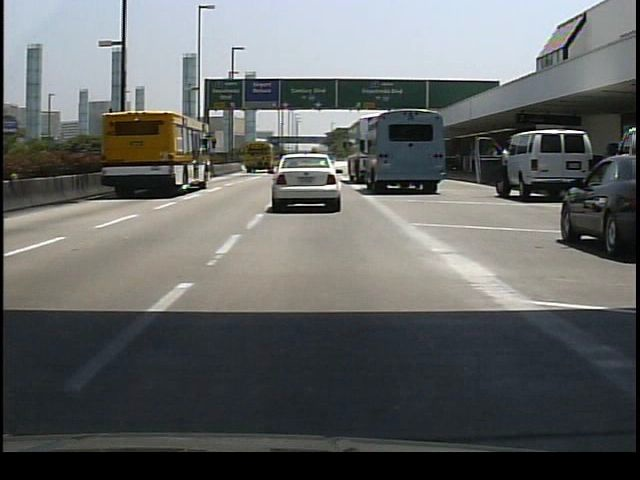person: (496, 137, 513, 208)
